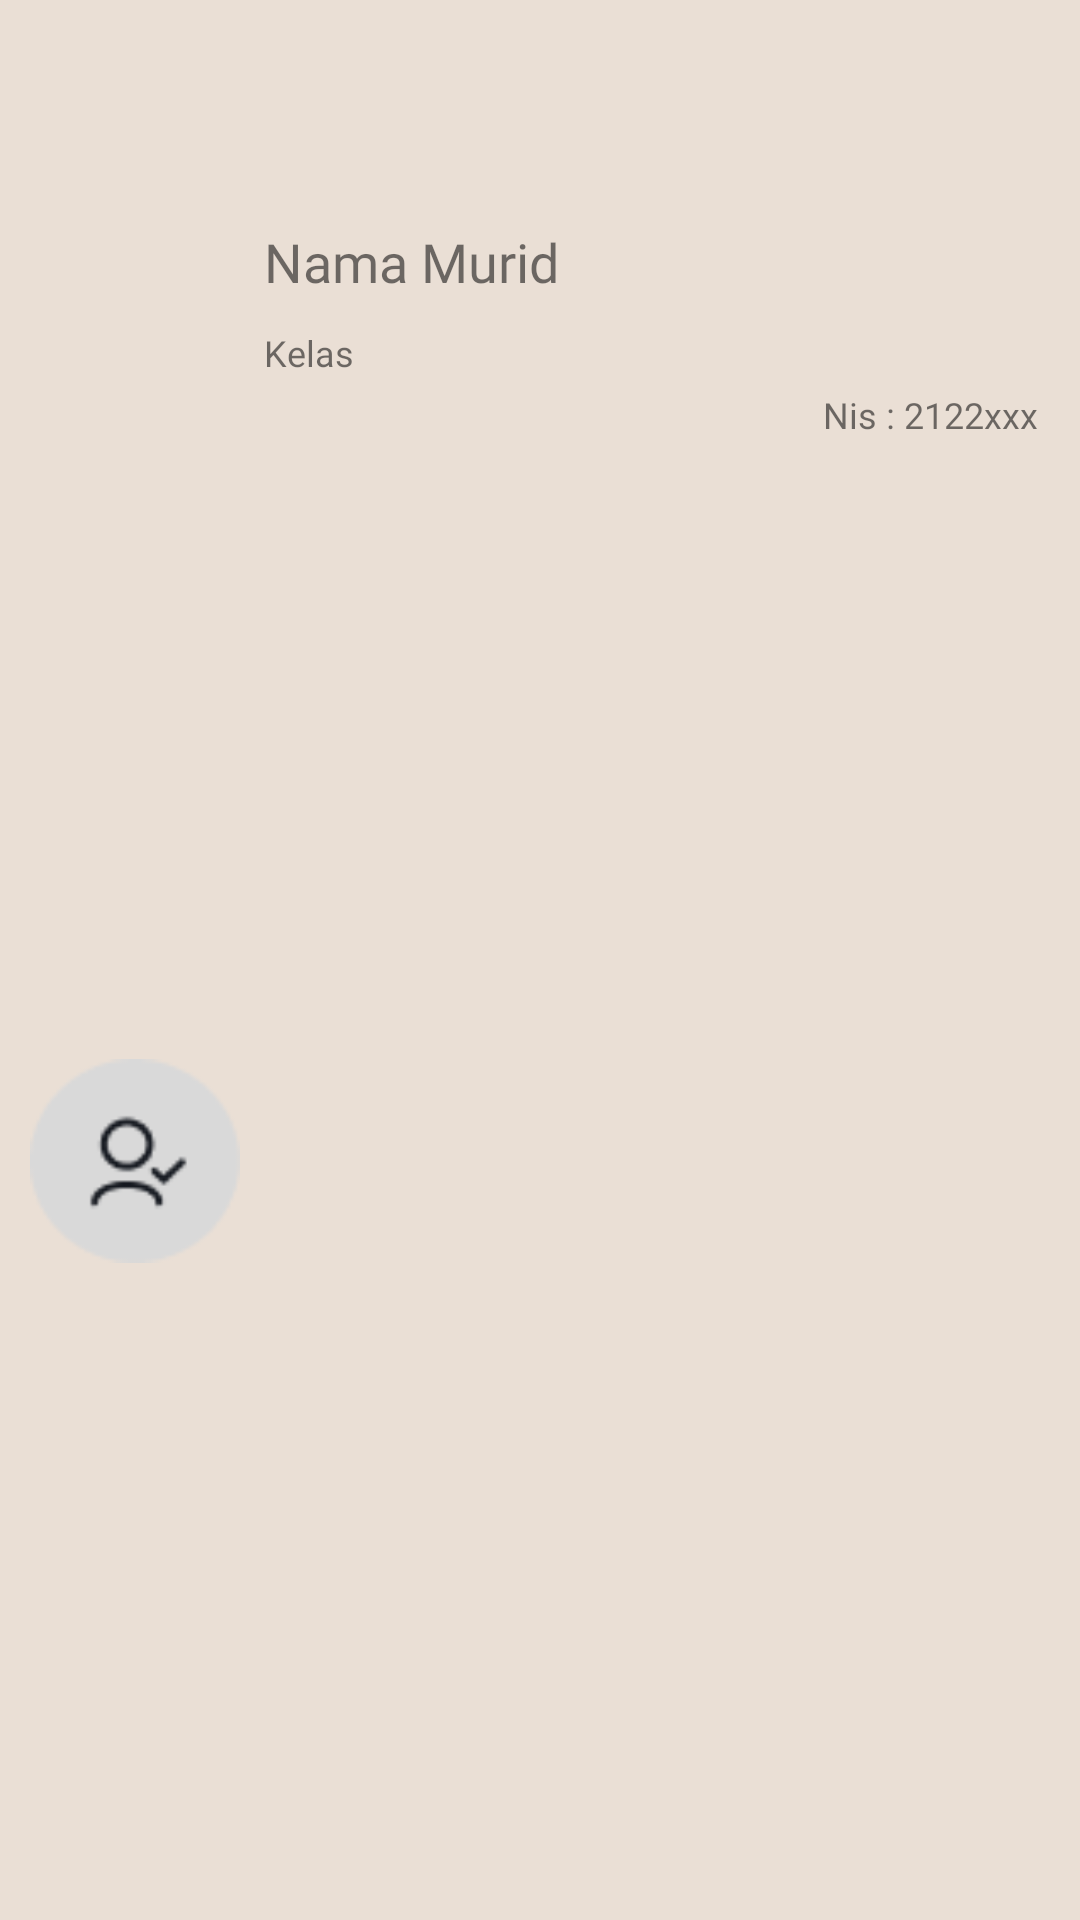

Screen size 1080*1920. Icon name, then its box in pixels as [x1,y1,x2,y2]:
profil nav: [30,1059,240,1263]
